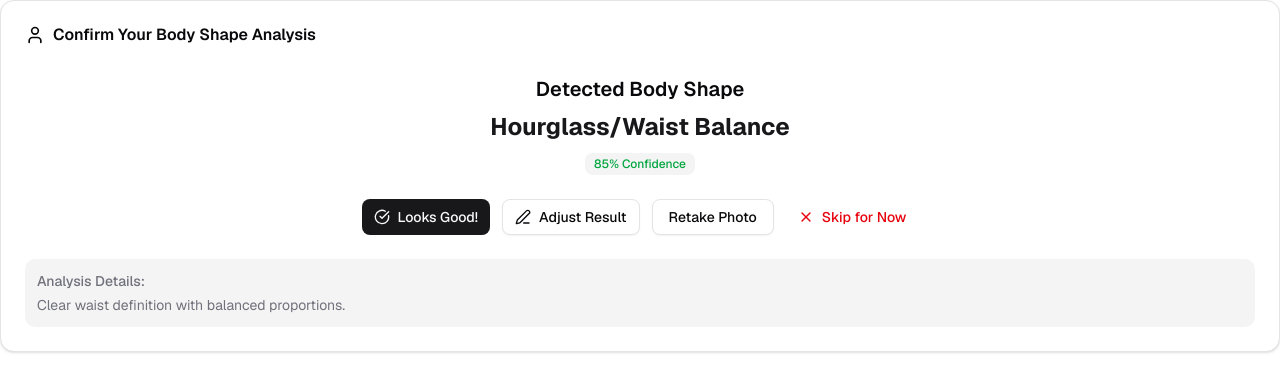
Scenario: AnalysisConfirmation Component › Body Shape Confirmation › allows canceling edit mode
The width and height of the screenshot is (1280, 370).
# Enter edit mode
Click the button "Adjust Result" at (571, 217), box [502,199,640,235]
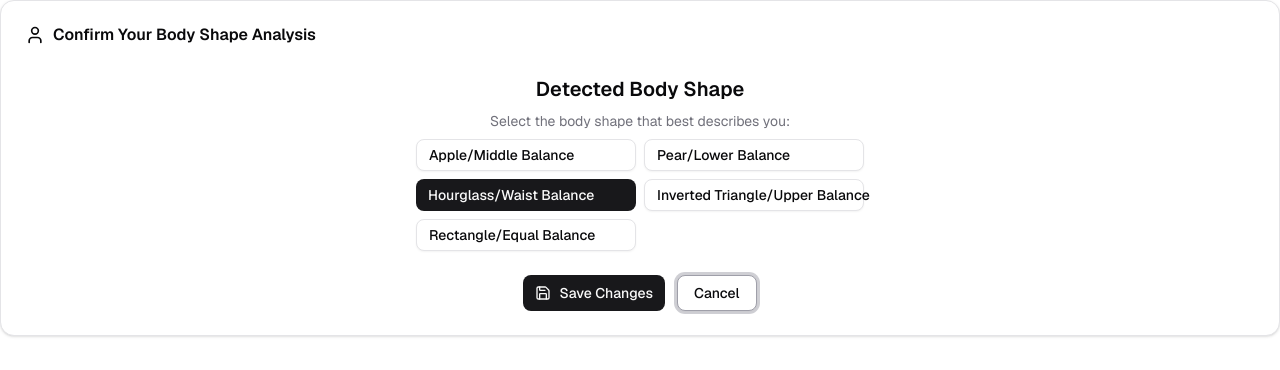
# Cancel editing
Click the button "Cancel" at (717, 293), box [677,275,757,311]
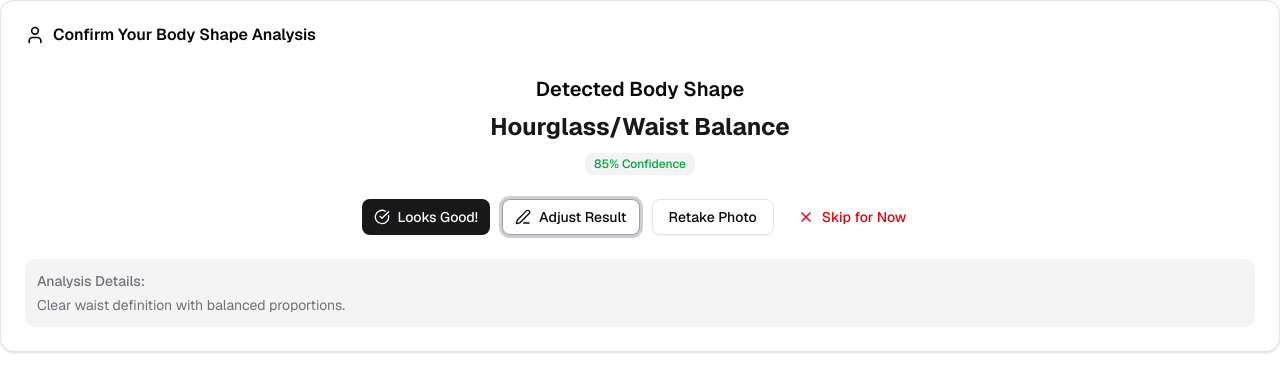
Expected: the text "Hourglass/Waist Balance" is shown, [490,111,790,142]
Expected: the button "Looks Good!" is shown, [362,199,490,235]
